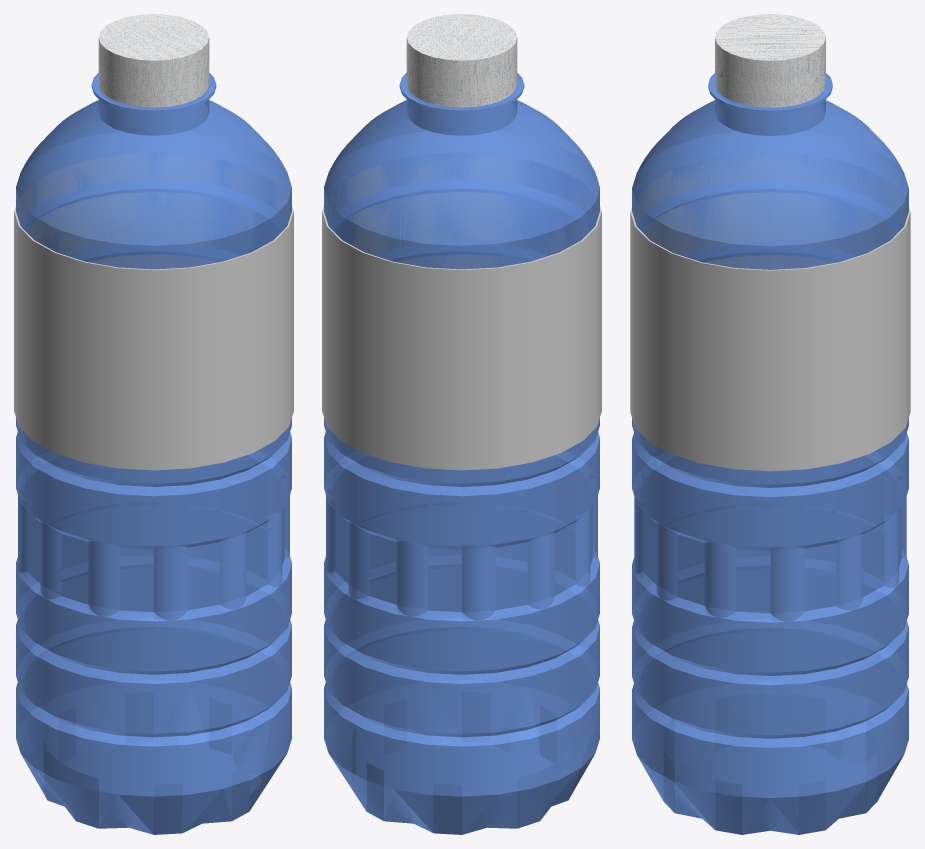
Rendered from waterBottle.fbx.
The picture shows the model from 3 angles, left to right: view 1: azimuth 30°, elevation 25°; view 2: azimuth 150°, elevation 25°; view 3: azimuth 270°, elevation 25°; orthographic projection.
Parts seen in each view (by area): view 1: Component_1_1, Group1; view 2: Component_1_1, Group1; view 3: Component_1_1, Group1.
Part boxes in pixels (x1=…): Component_1_1: x1=16, y1=14, x2=291, y2=834; Group1: x1=14, y1=153, x2=293, y2=470; Component_1_1: x1=324, y1=14, x2=599, y2=834; Group1: x1=322, y1=153, x2=601, y2=470; Component_1_1: x1=632, y1=14, x2=908, y2=834; Group1: x1=630, y1=153, x2=910, y2=471.
Size of the model in its own units: 2.53 by 7.5 by 2.53.
